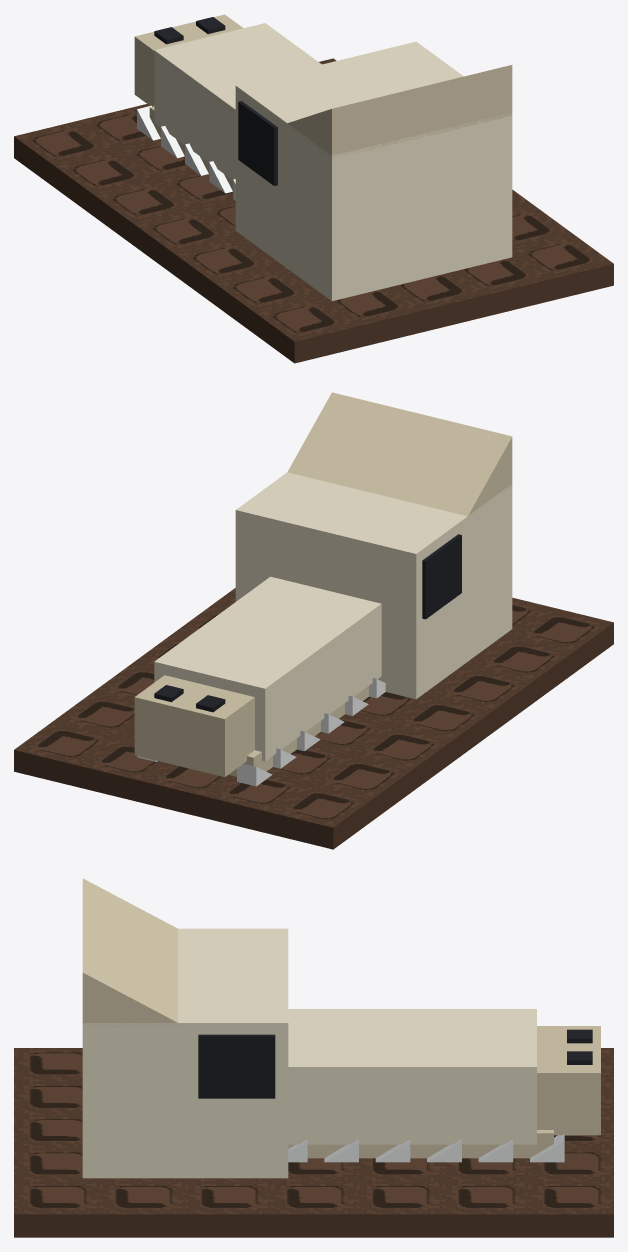
Rendered from GatorSkull.glb.
The picture shows the model from 3 angles, top to bottom: view 1: azimuth 30°, elevation 25°; view 2: azimuth 150°, elevation 25°; view 3: azimuth 270°, elevation 25°; orthographic projection. The views are drawn at different scales.
Parts seen in each view (by area): view 1: GatorSkull; view 2: GatorSkull; view 3: GatorSkull.
Part boxes in pixels (x1,y1,x2,y2): GatorSkull: (14, 14, 613, 363); GatorSkull: (14, 392, 613, 849); GatorSkull: (14, 878, 613, 1237).
Bounding box in the file's own units: 4.6 × 2.95 × 7.
Materials: 1 (1 with a texture image).
